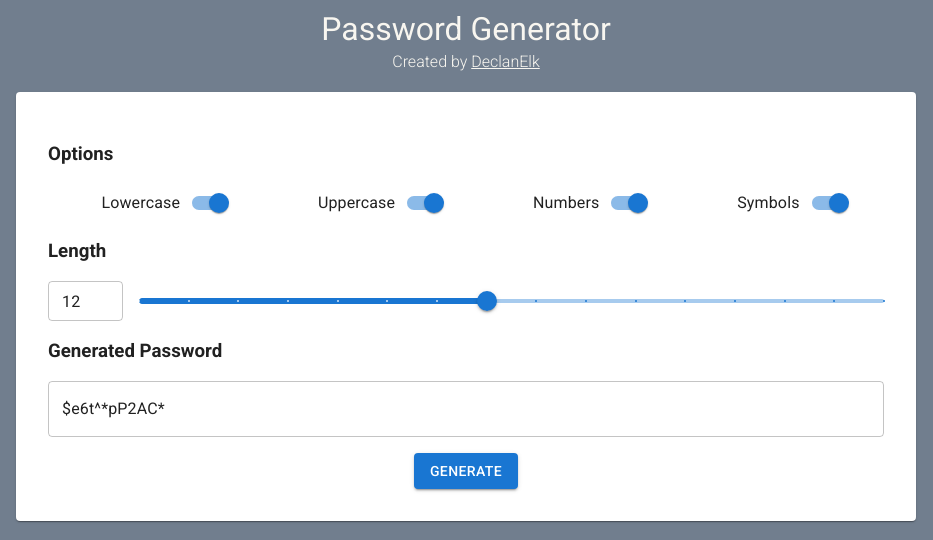
it: Generate button disabled when no charset options selected
Click the element with test id "lowerSwitch" at coordinates (219, 203), box [209,193,229,213]
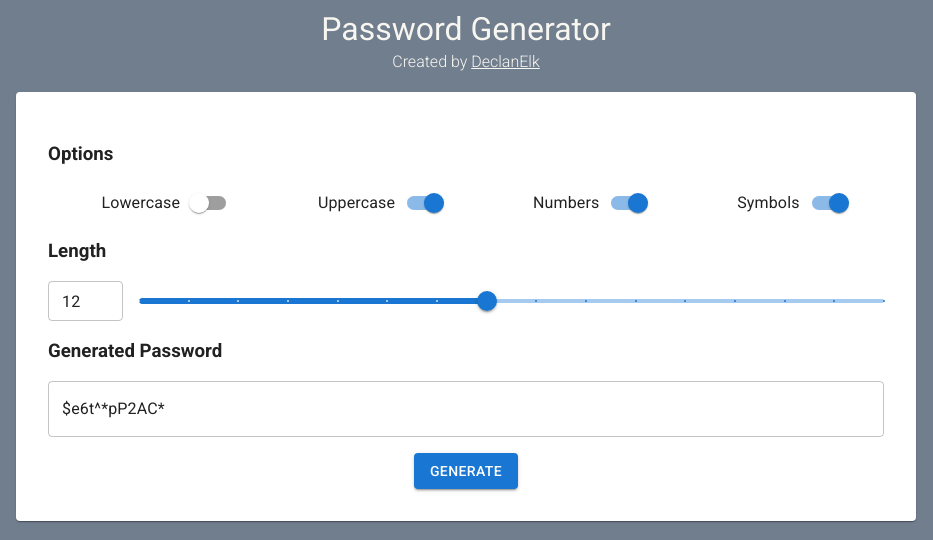
Click the element with test id "upperSwitch" at coordinates (434, 203), box [424,193,444,213]
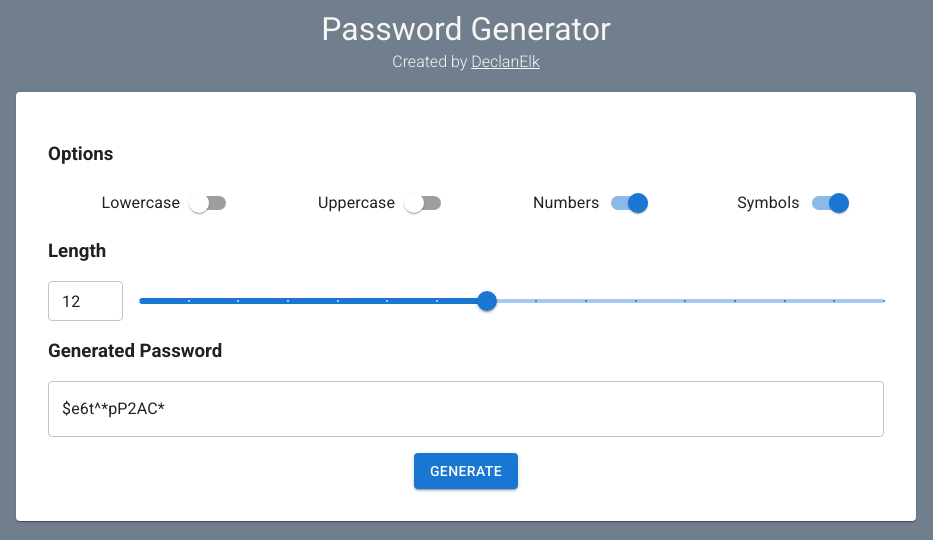
Click the element with test id "numbersSwitch" at coordinates (638, 203), box [628,193,648,213]
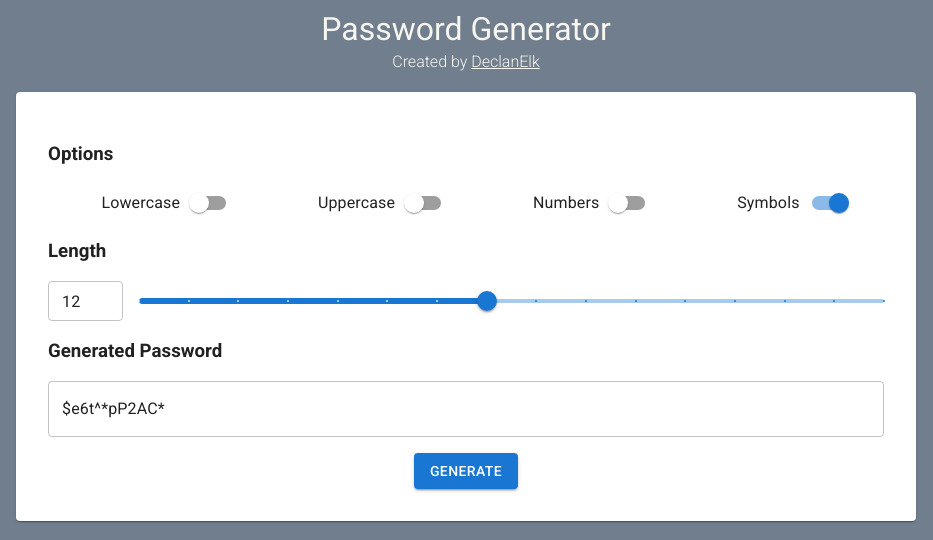
Click the element with test id "symbolsSwitch" at coordinates (839, 203), box [829,193,849,213]
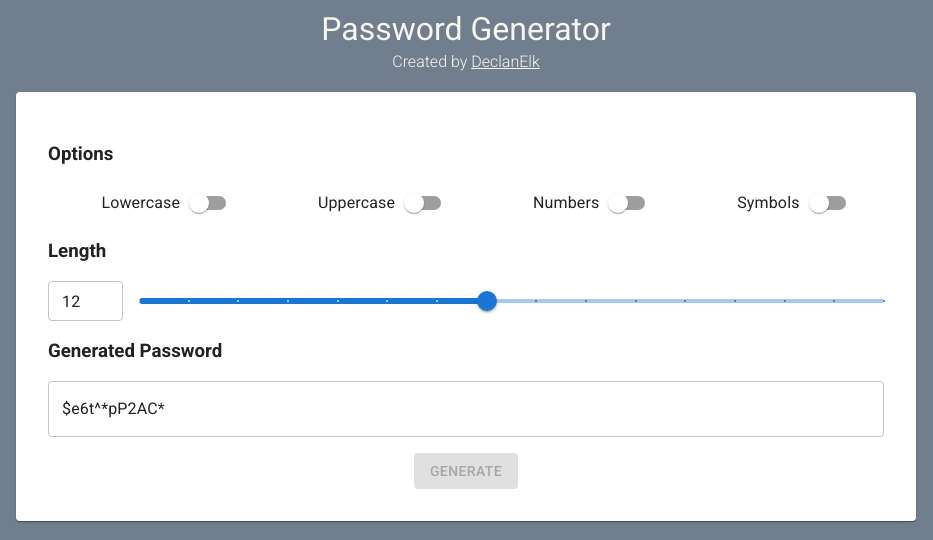
Expected: the button with test id "generateButton" is disabled, [414,453,518,489]
